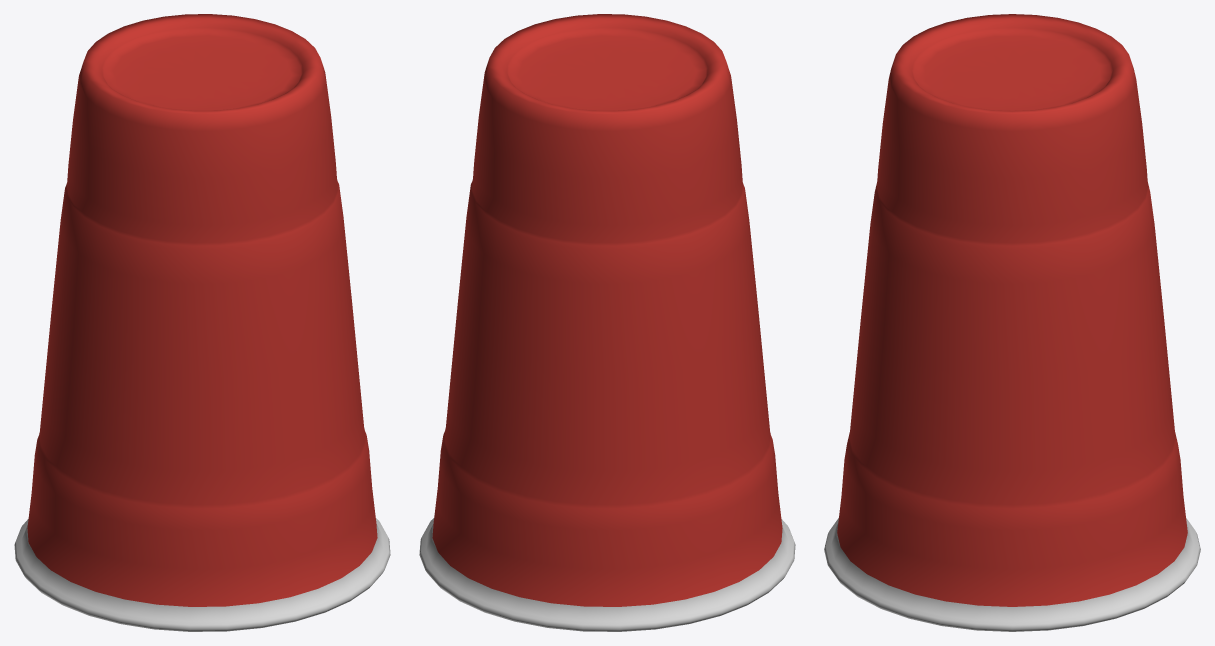
File: Cups and ball Cup.fbx
The picture shows the model from 3 angles, left to right: view 1: azimuth 30°, elevation 25°; view 2: azimuth 150°, elevation 25°; view 3: azimuth 270°, elevation 25°; orthographic projection.
Parts seen in each view (by area): view 1: Cylinder; view 2: Cylinder; view 3: Cylinder.
Boxes of the visible parts, <box> form: Cylinder: <box>14,14,390,631</box>; Cylinder: <box>419,14,795,631</box>; Cylinder: <box>824,14,1200,631</box>.
Size of the model in its own units: 291 by 418 by 291.
